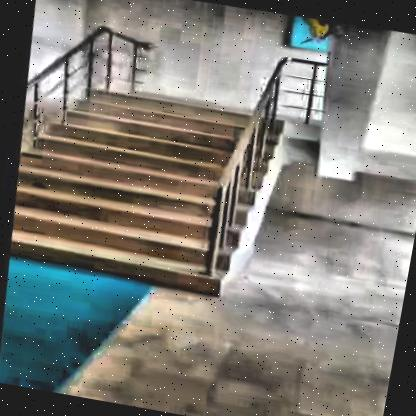stair: (0, 50, 293, 298)
